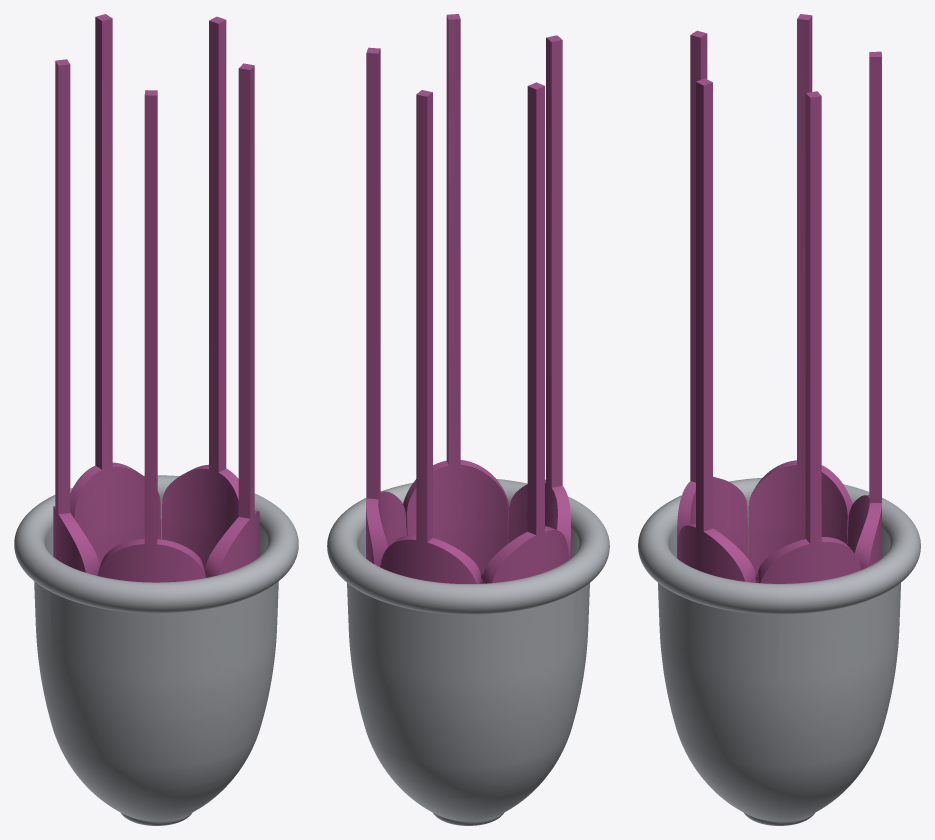
The model's file is flower-low.glb.
3 views of the same model, side by side, from view 1: azimuth 30°, elevation 25°; view 2: azimuth 150°, elevation 25°; view 3: azimuth 270°, elevation 25° (orthographic).
Parts seen in each view (by area): view 1: flower-cup-withrim-part-5, flower-cup-withrim-part-1, flower-cup-withrim-part-3; view 2: flower-cup-withrim-part-5, flower-cup-withrim-part-3, flower-cup-withrim-part-1; view 3: flower-cup-withrim-part-5, flower-cup-withrim-part-1, flower-cup-withrim-part-3.
Boxes of the visible parts, bbox=[...] form: flower-cup-withrim-part-5: bbox=[53, 14, 259, 582]; flower-cup-withrim-part-1: bbox=[33, 503, 298, 821]; flower-cup-withrim-part-3: bbox=[14, 475, 273, 798]; flower-cup-withrim-part-5: bbox=[366, 14, 570, 583]; flower-cup-withrim-part-3: bbox=[327, 505, 590, 821]; flower-cup-withrim-part-1: bbox=[352, 479, 609, 797]; flower-cup-withrim-part-5: bbox=[677, 14, 881, 583]; flower-cup-withrim-part-1: bbox=[638, 477, 779, 821]; flower-cup-withrim-part-3: bbox=[779, 484, 920, 821].
Size of the model in its own units: 0.046 by 0.1356 by 0.046.
